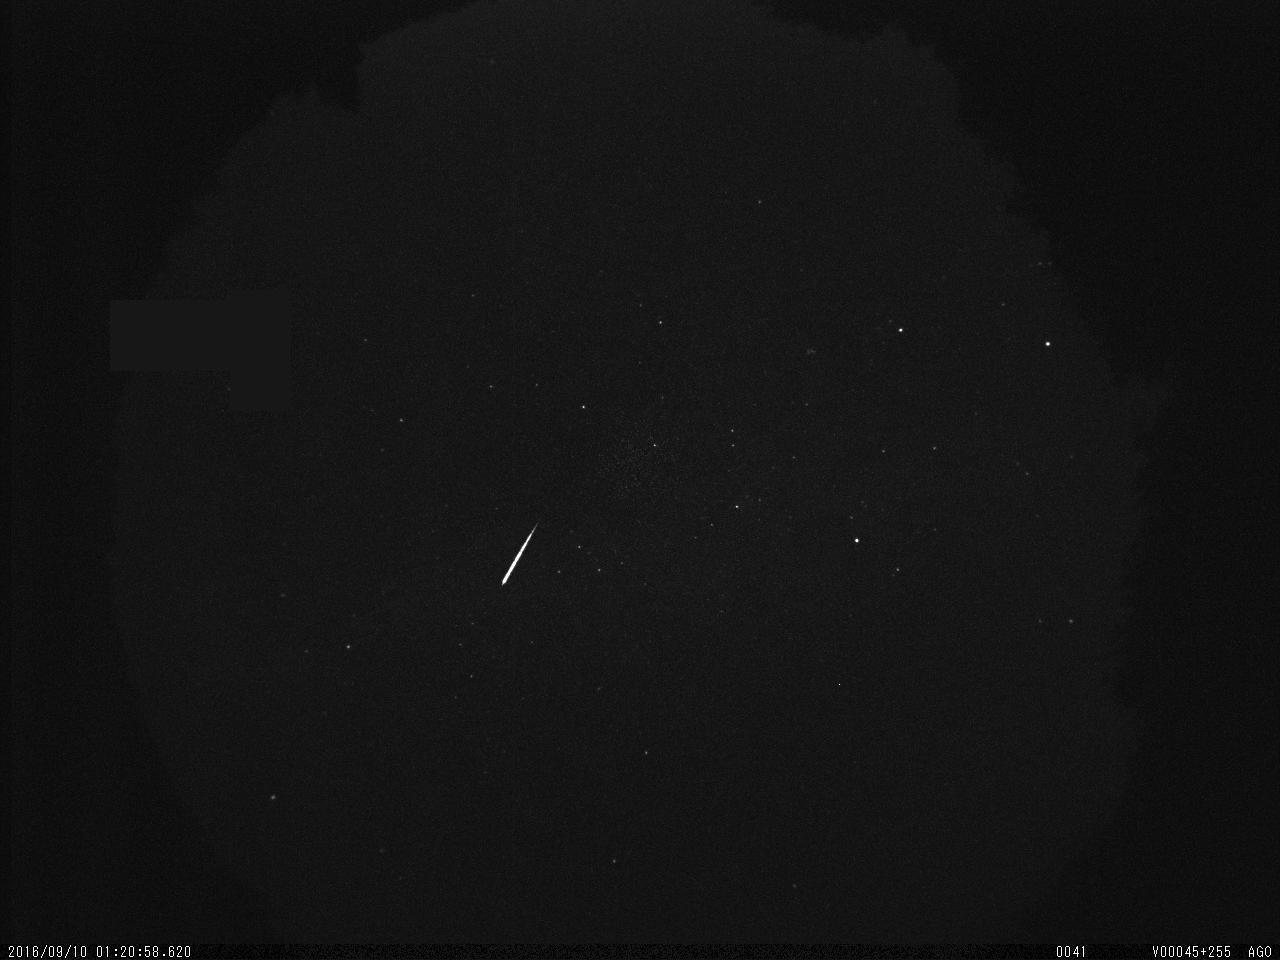Meteor: (497, 517, 541, 589)
